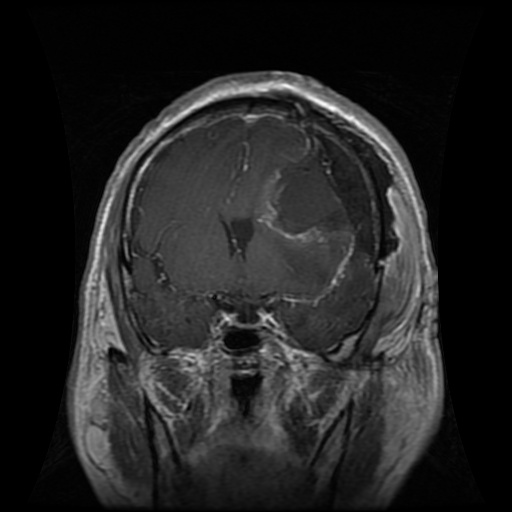glioma: (260, 127, 366, 286)
